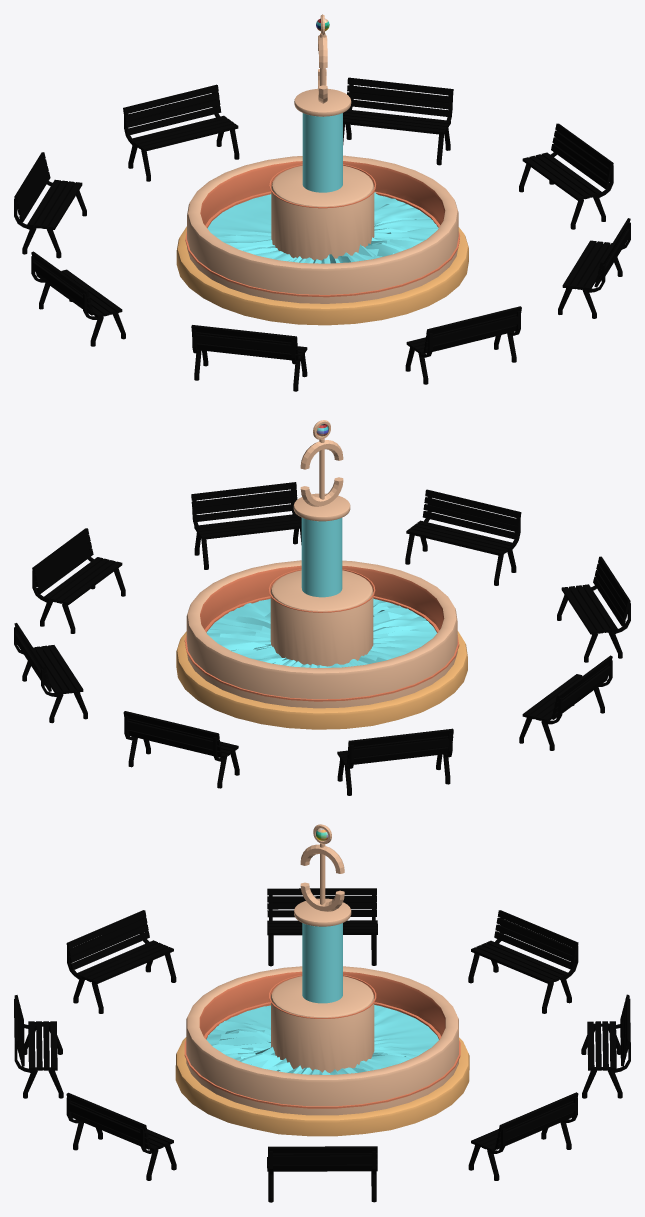
The model's file is waterjet_lv3.fbx.
3 views of the same model, one above another, from view 1: azimuth 30°, elevation 25°; view 2: azimuth 150°, elevation 25°; view 3: azimuth 270°, elevation 25° (orthographic).
Parts seen in each view (by area): view 1: waterjet_lv3, bench_lv3_1, bench_lv3_2, bench_lv3_3, bench_lv3_6, bench_lv3_8, bench_lv3_5, bench_lv3_7, bench_lv3_4; view 2: waterjet_lv3, bench_lv3_5, bench_lv3_4, bench_lv3_3, bench_lv3_8, bench_lv3_6, bench_lv3_1, bench_lv3_7, bench_lv3_2; view 3: waterjet_lv3, bench_lv3_8, bench_lv3_6, bench_lv3_7, bench_lv3_3, bench_lv3_4, bench_lv3_2, bench_lv3_1, bench_lv3_5.
Part boxes in pixels (bbox=[...]): waterjet_lv3: bbox=[176, 14, 468, 325]; bench_lv3_1: bbox=[123, 84, 239, 181]; bench_lv3_2: bbox=[343, 77, 453, 165]; bench_lv3_3: bbox=[519, 123, 613, 229]; bench_lv3_6: bbox=[191, 325, 307, 391]; bench_lv3_8: bbox=[14, 152, 86, 258]; bench_lv3_5: bbox=[405, 306, 521, 384]; bench_lv3_7: bbox=[31, 251, 125, 346]; bench_lv3_4: bbox=[558, 218, 630, 318]; waterjet_lv3: bbox=[176, 420, 467, 729]; bench_lv3_5: bbox=[405, 489, 521, 585]; bench_lv3_4: bbox=[191, 482, 301, 569]; bench_lv3_3: bbox=[32, 528, 125, 633]; bench_lv3_8: bbox=[337, 728, 453, 795]; bench_lv3_6: bbox=[557, 556, 630, 662]; bench_lv3_1: bbox=[123, 711, 239, 788]; bench_lv3_7: bbox=[519, 655, 612, 750]; bench_lv3_2: bbox=[14, 623, 87, 723]; waterjet_lv3: bbox=[175, 824, 469, 1136]; bench_lv3_8: bbox=[468, 910, 578, 1013]; bench_lv3_6: bbox=[66, 910, 176, 1013]; bench_lv3_7: bbox=[267, 888, 377, 966]; bench_lv3_3: bbox=[267, 1146, 377, 1202]; bench_lv3_4: bbox=[66, 1092, 176, 1180]; bench_lv3_2: bbox=[468, 1092, 578, 1180]; bench_lv3_1: bbox=[581, 994, 630, 1098]; bench_lv3_5: bbox=[14, 995, 63, 1098].
Bounding box in the file's own units: 2479 × 1114 × 2479.
